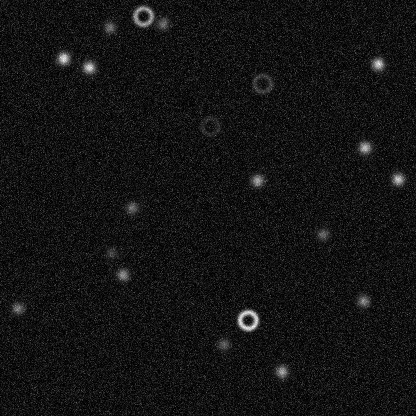Ring: (198, 114, 222, 138), (250, 71, 274, 95), (235, 308, 259, 332), (131, 4, 155, 28)
Spot: (81, 59, 97, 75), (314, 226, 330, 242), (103, 244, 119, 260), (114, 266, 130, 282), (154, 15, 170, 31), (389, 171, 405, 187), (123, 199, 139, 215), (215, 336, 231, 352), (9, 300, 25, 316), (55, 50, 71, 66), (369, 55, 385, 71), (101, 19, 117, 35), (273, 363, 289, 379), (249, 172, 265, 188), (355, 292, 371, 308), (356, 139, 372, 155)
